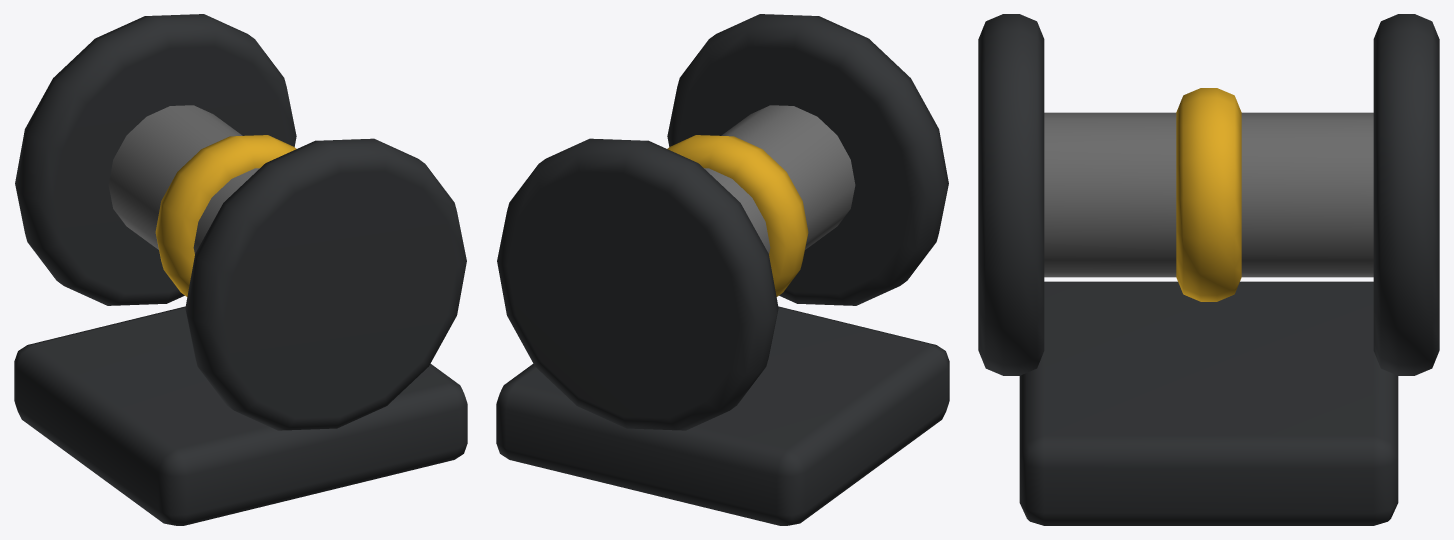
Rendered from e-coupling.glb.
3 views of the same model, side by side, from view 1: azimuth 30°, elevation 25°; view 2: azimuth 150°, elevation 25°; view 3: azimuth 270°, elevation 25° (orthographic). The views are drawn at different scales.
Visible parts, largest first — view 1: e-coupling; view 2: e-coupling; view 3: e-coupling.
Part boxes in pixels (box(x1,y1,x2,y2)): e-coupling: box(14, 14, 467, 525); e-coupling: box(496, 14, 949, 525); e-coupling: box(978, 14, 1439, 525).
Size of the model in its own units: 0.5 by 0.56 by 0.56.
